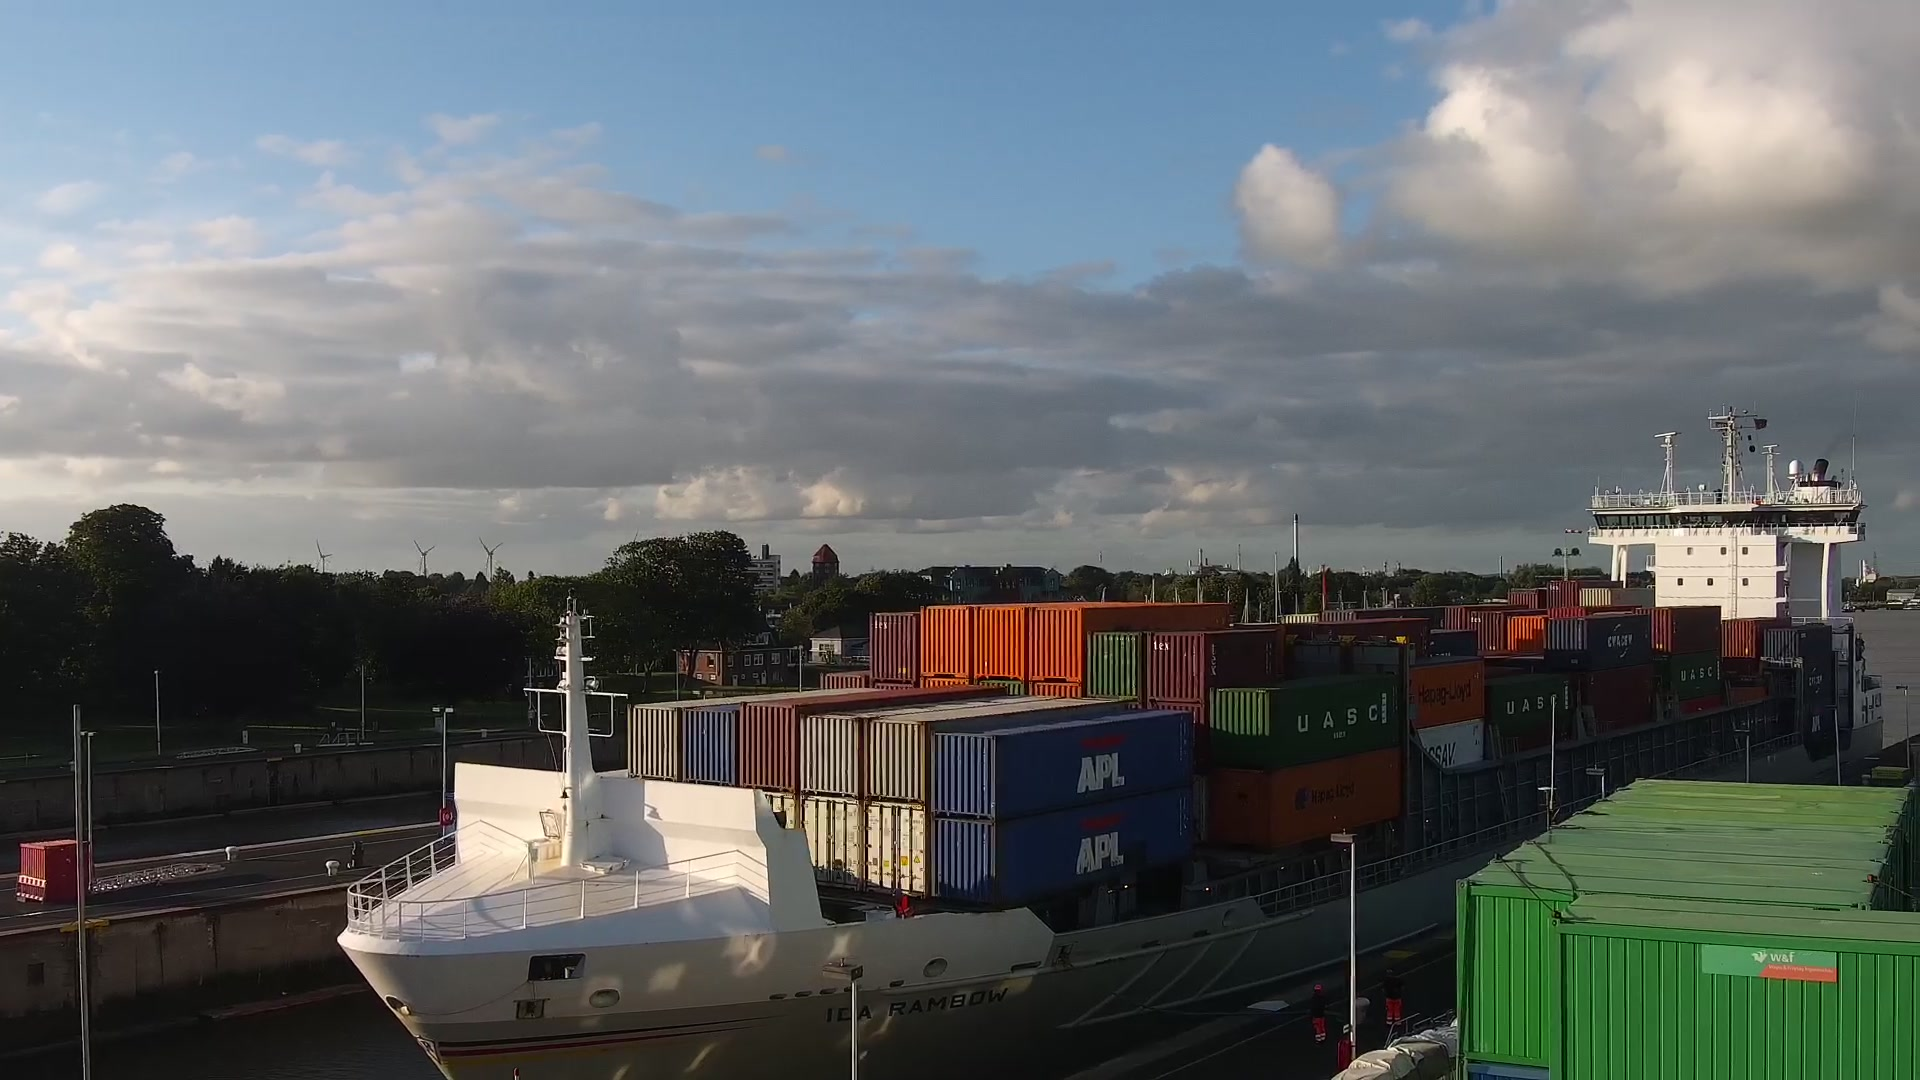human: (1381, 968, 1402, 1028), (1309, 980, 1326, 1047)
sea: (334, 397, 1884, 1077), (1902, 603, 1920, 611)
